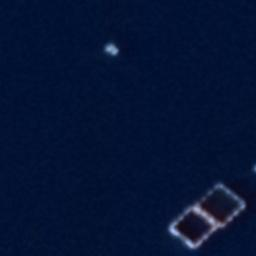square_solid: (195, 180, 249, 230), (166, 203, 219, 251)
